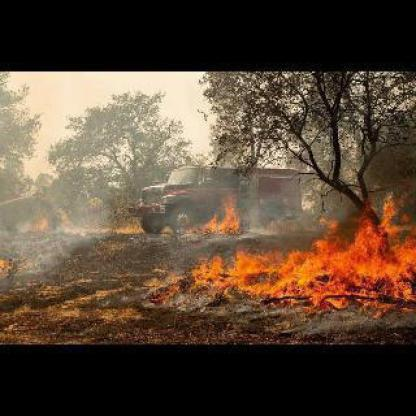fire: (184, 192, 414, 310), (185, 192, 239, 235), (28, 216, 50, 230)
